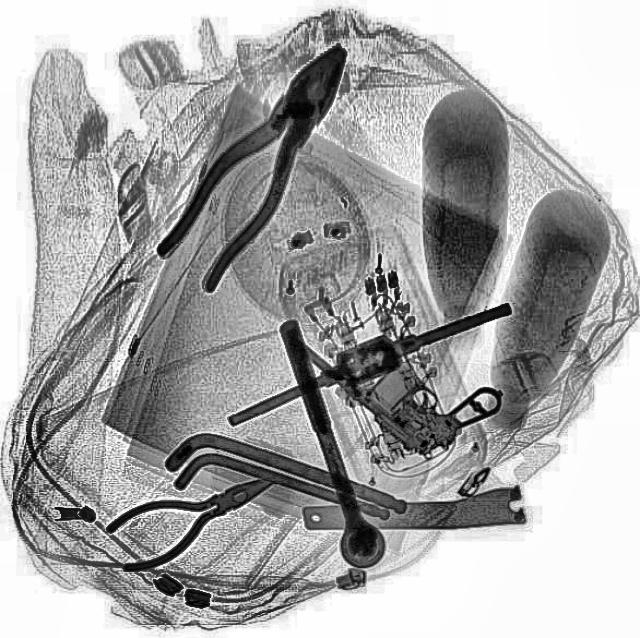Gun: (275, 262, 507, 470)
Pliers: (146, 26, 376, 296), (96, 454, 288, 578)
